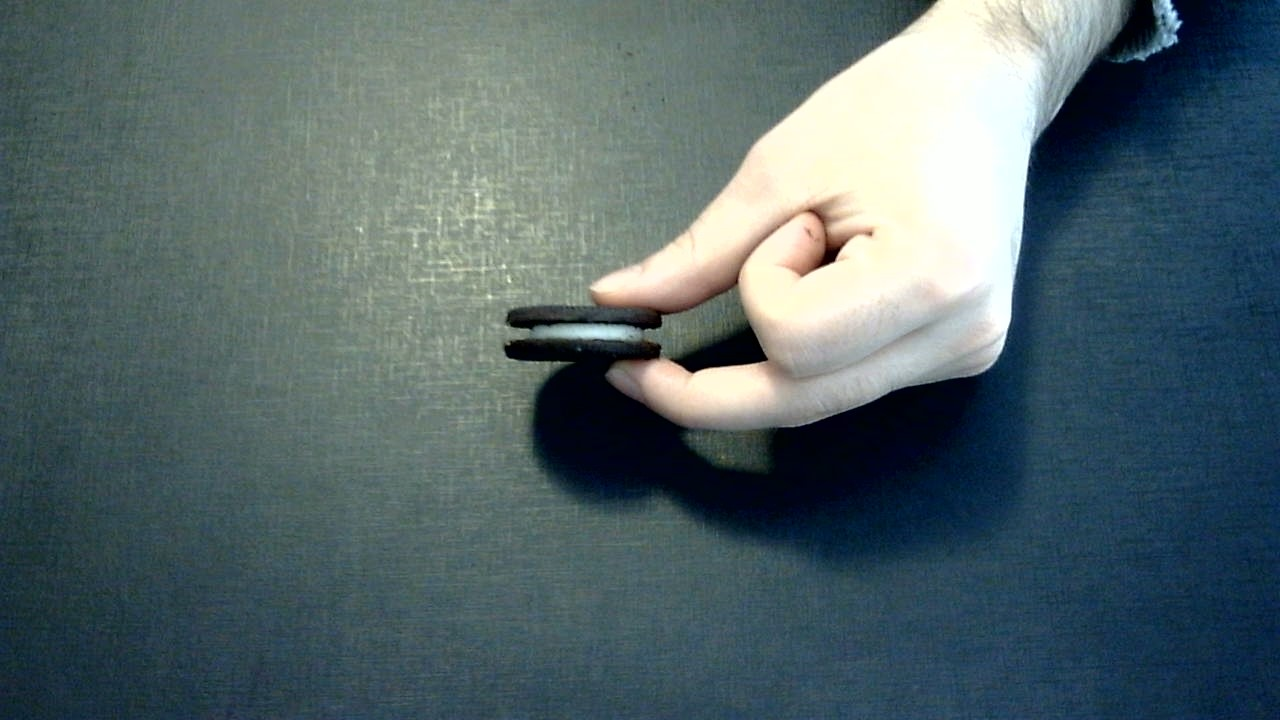oreo: (507, 306, 664, 360)
